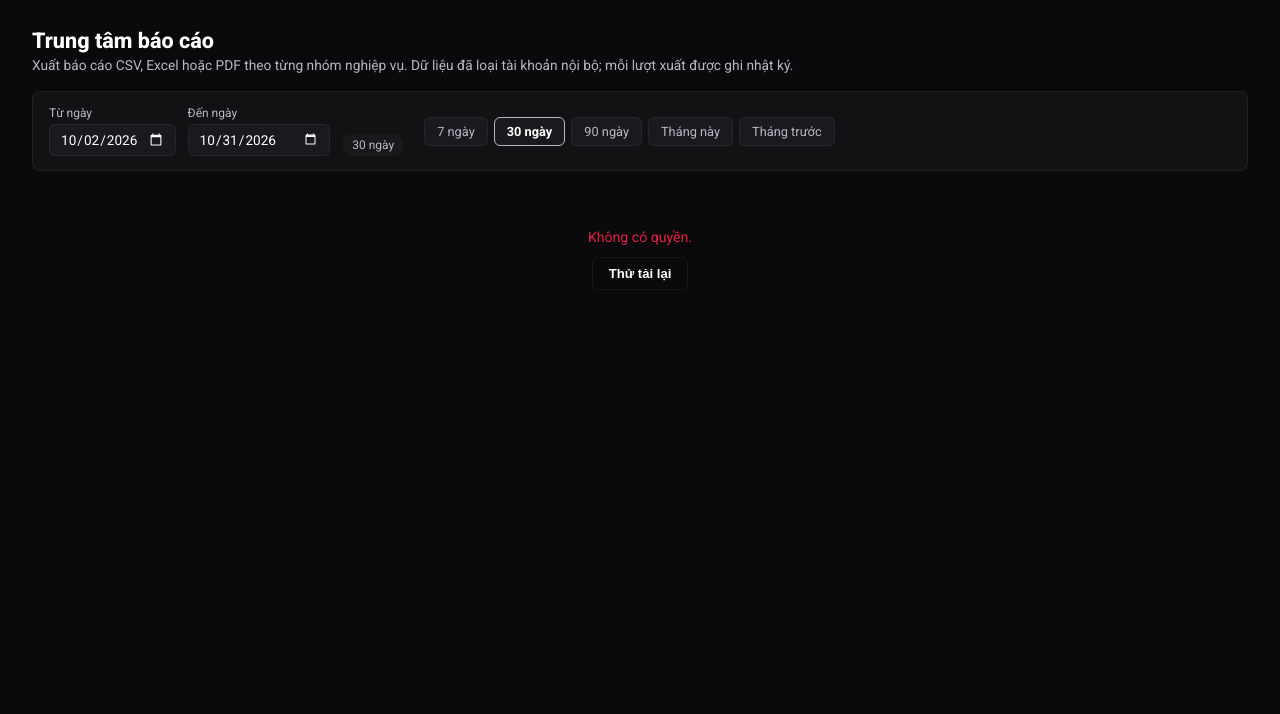
AdminReports › shows an error state with retry when the catalogue fails
Expected: the text "Không có quyền." is shown, left=588, top=229, right=692, bottom=245
Click the button "Thử tải lại": (640, 274) left=592, top=257, right=688, bottom=290
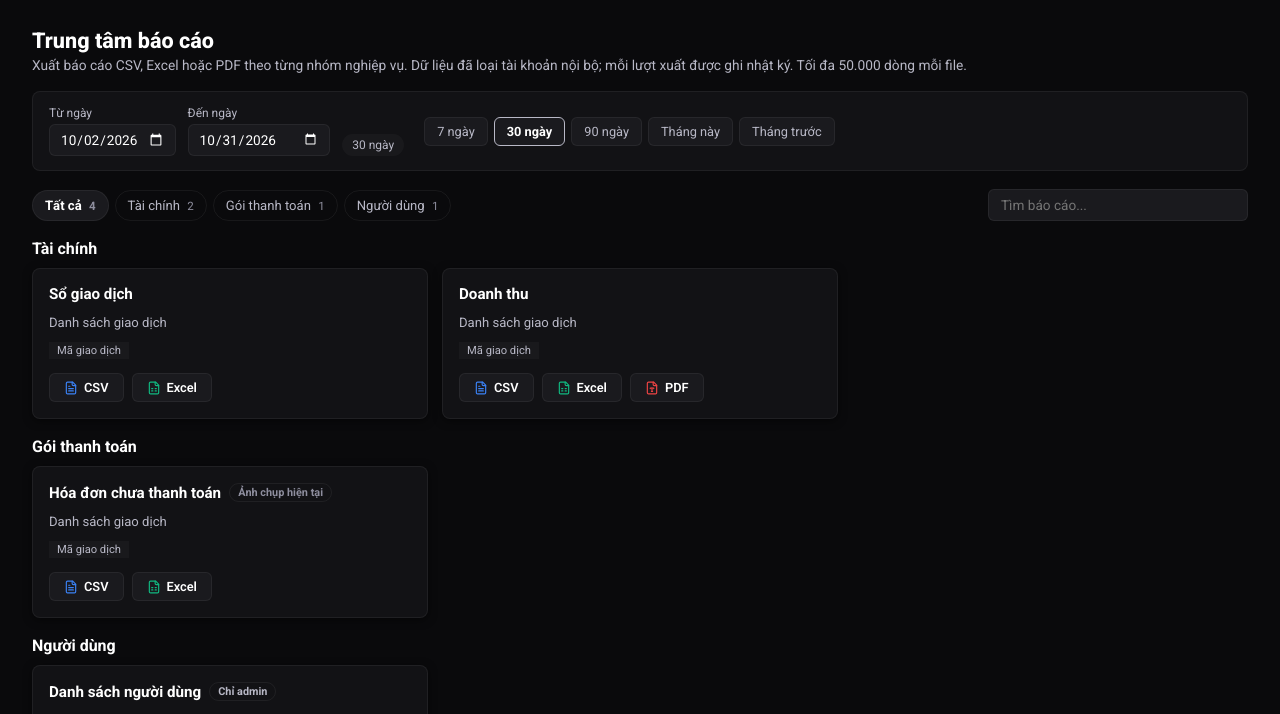
Expected: the heading "Tài chính" is shown, left=32, top=239, right=97, bottom=258
